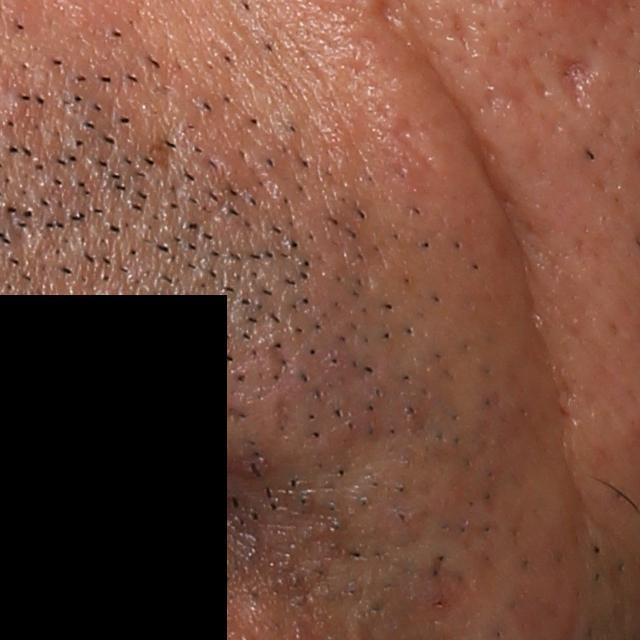atrophic_scar: (558, 55, 603, 100)
